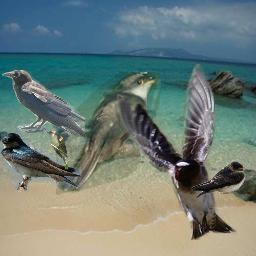Crow: (2, 70, 85, 137)
Cuckoo: (56, 72, 161, 195), (44, 130, 69, 171)
Swallow: (117, 64, 237, 240), (1, 133, 82, 192), (191, 161, 246, 199)
